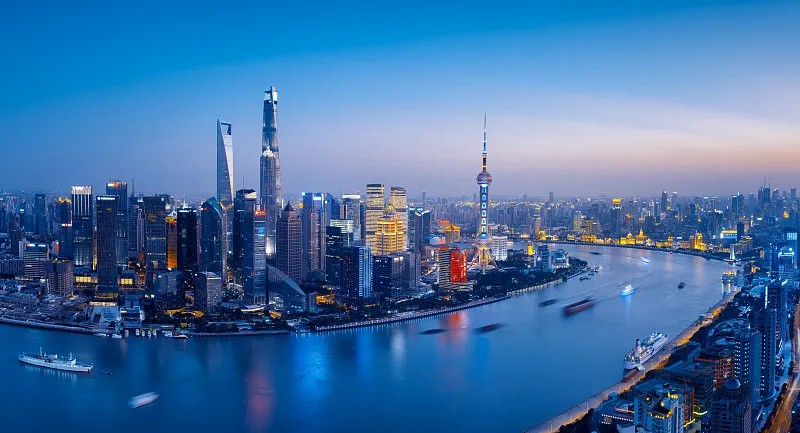Oriental: (469, 114, 498, 272)
